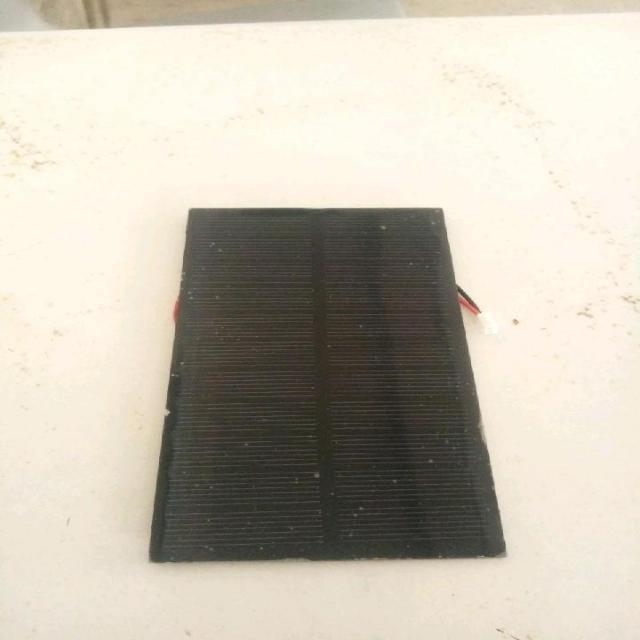Normal Solar Panel: (150, 209, 505, 562)
